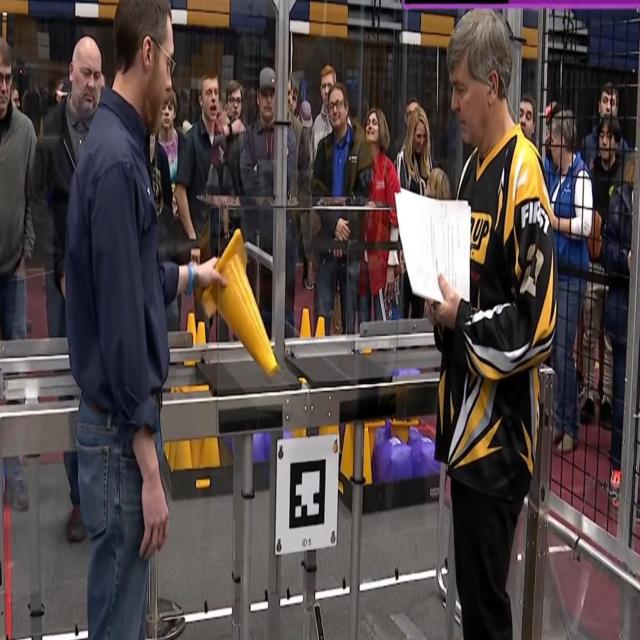frc_cone: (202, 226, 278, 380), (339, 422, 355, 480), (388, 414, 416, 446), (361, 426, 374, 485), (198, 438, 220, 471), (296, 307, 314, 340), (176, 435, 192, 469), (189, 435, 201, 468), (165, 438, 176, 466), (313, 316, 326, 339)
frc_cube: (377, 436, 412, 484), (411, 434, 440, 478), (252, 430, 268, 460)
